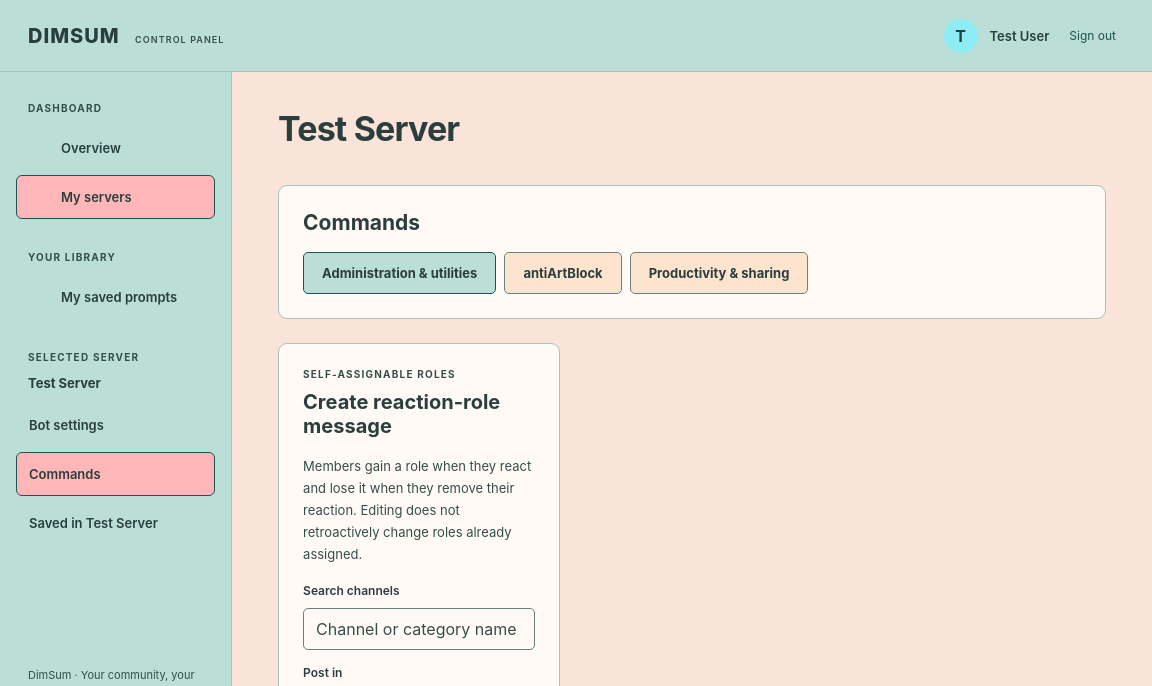
Test: completed challenges expose participant counts
This screenshot has width=1152, height=686.
Click the tab "antiArtBlock".
click(563, 273)  # box [504,252,622,294]
(page scrolled)
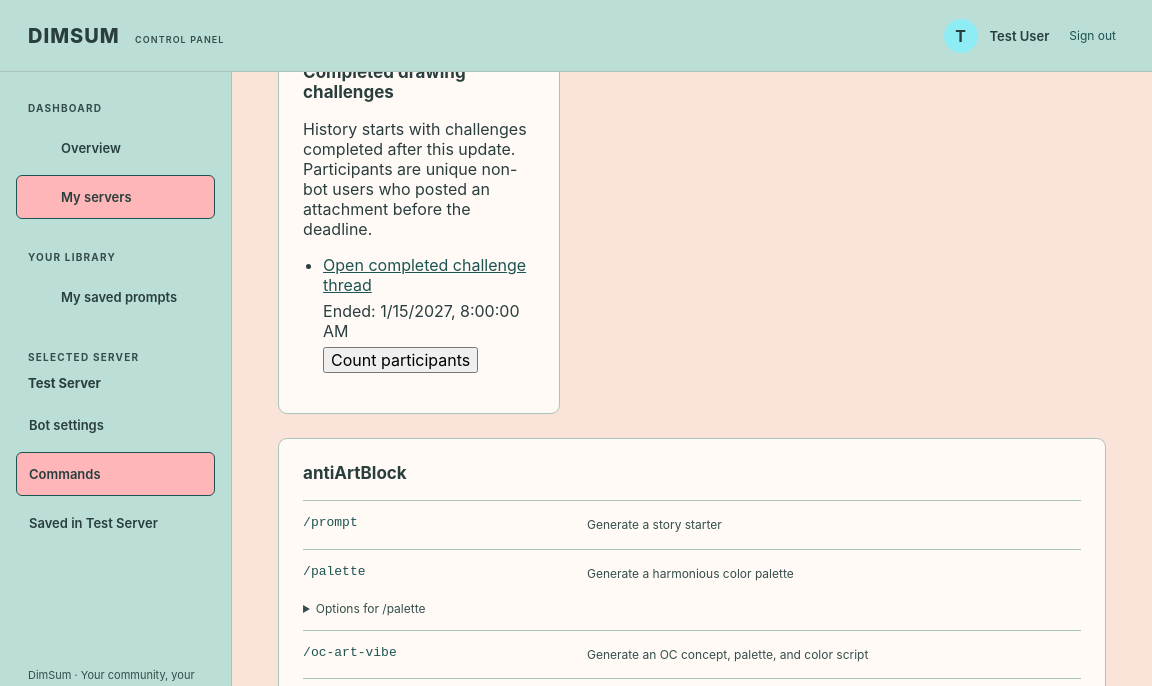
Click the button "Count participants".
click(401, 360)  # box [323,348,478,374]
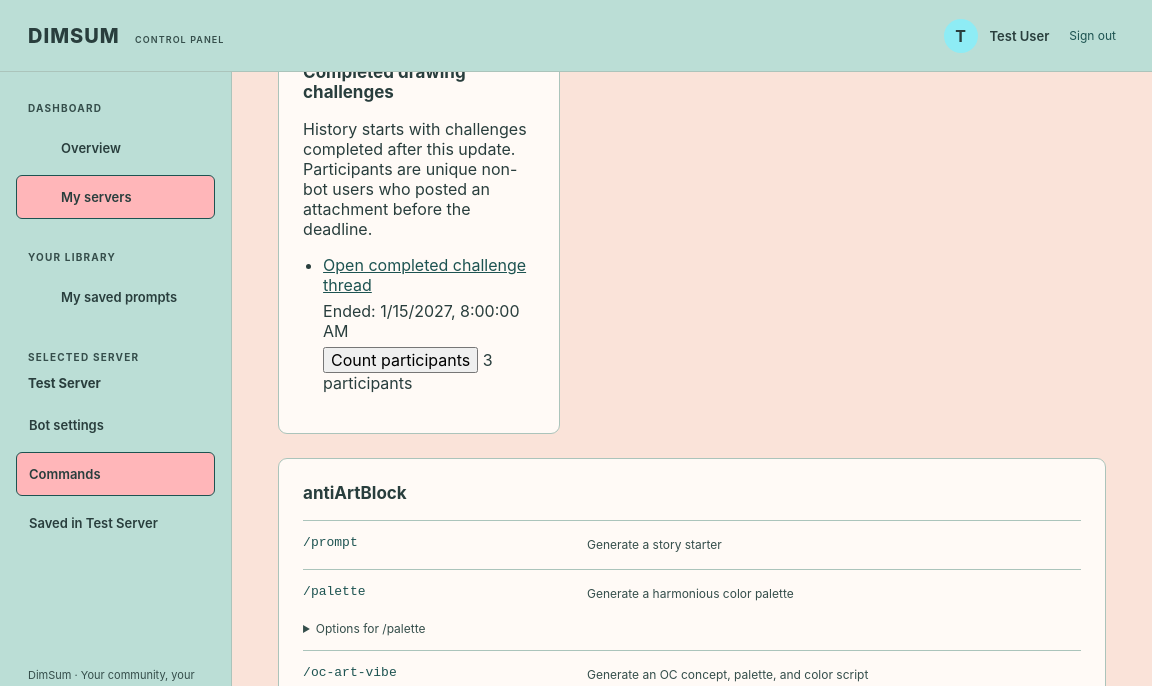
Expected: the text "3 participants" is shown, [323,350,493,394]
